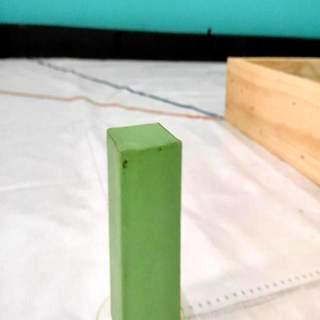greenbox: (105, 119, 184, 320)
